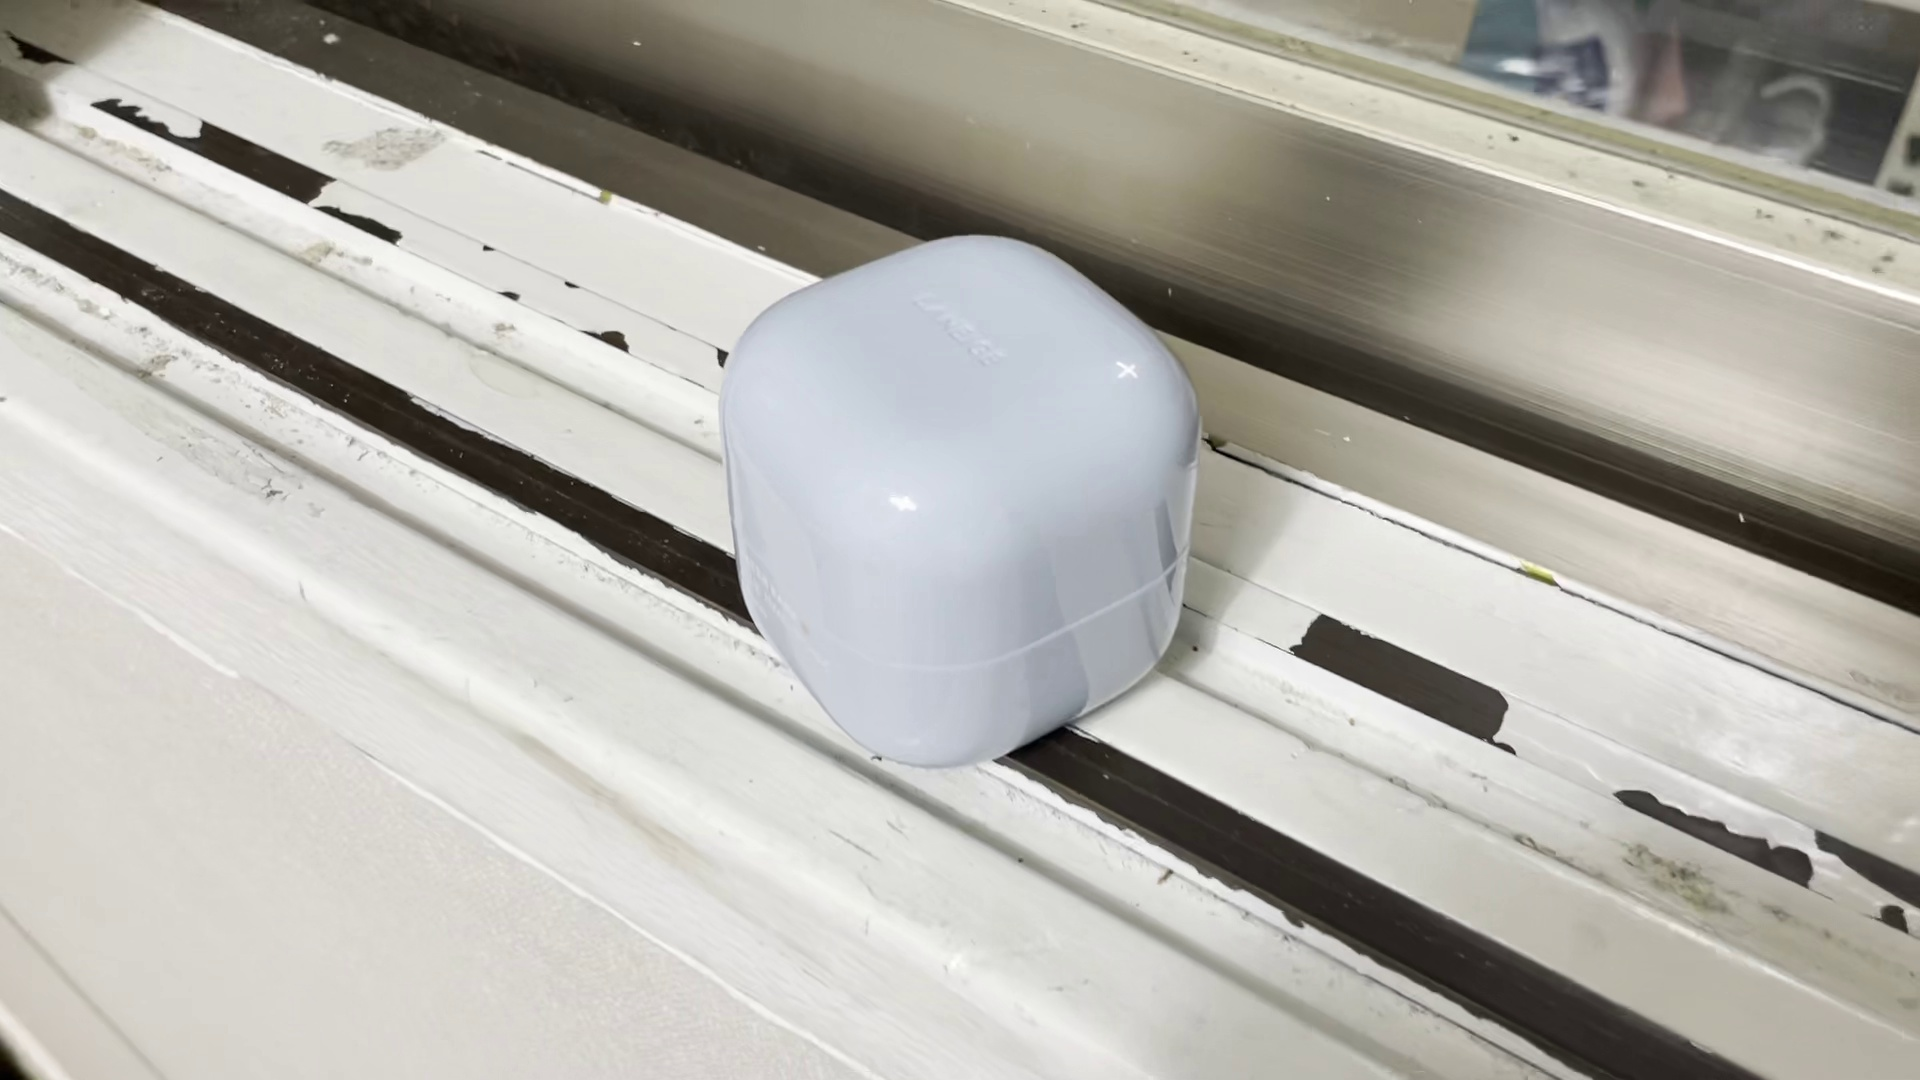cream: (728, 235, 1201, 760)
